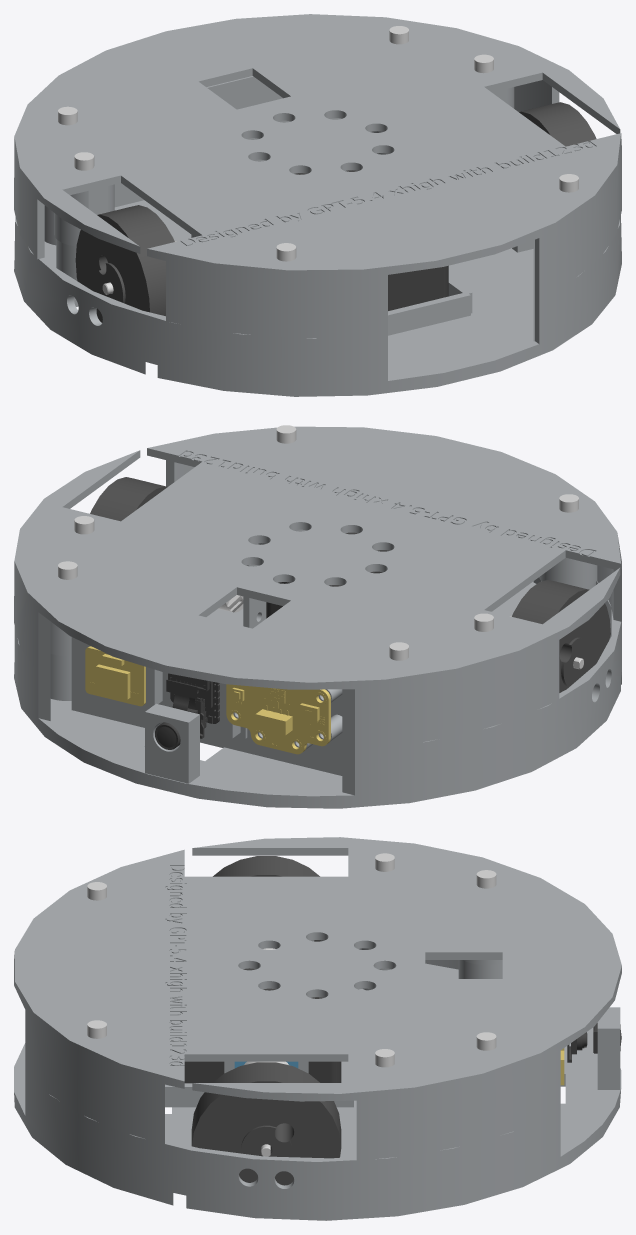
File: flat-disk-robot.glb
3 views of the same model, one above another, from view 1: azimuth 30°, elevation 25°; view 2: azimuth 150°, elevation 25°; view 3: azimuth 270°, elevation 25° (orthographic).
Visible parts, largest first — view 1: =>[0:1:1:6], =>[0:1:1:4], =>[0:1:1:357], =>[0:1:1:9], =>[0:1:1:407]; view 2: =>[0:1:1:6], =>[0:1:1:4], =>[0:1:1:357], =>[0:1:1:139], =>[0:1:1:407], =>[0:1:1:328], =>[0:1:1:136], =>[0:1:1:330], =>[0:1:1:225]; view 3: =>[0:1:1:6], =>[0:1:1:4], =>[0:1:1:407], =>[0:1:1:357], =>[0:1:1:9].
Boxes of the visible parts, x1,y1,x2,y2 form: =>[0:1:1:6]: (14, 14, 621, 338); =>[0:1:1:4]: (14, 76, 621, 396); =>[0:1:1:357]: (75, 205, 174, 322); =>[0:1:1:9]: (388, 265, 448, 310); =>[0:1:1:407]: (519, 102, 596, 146); =>[0:1:1:6]: (14, 426, 621, 749); =>[0:1:1:4]: (14, 529, 621, 808); =>[0:1:1:357]: (512, 580, 610, 692); =>[0:1:1:139]: (226, 684, 330, 754); =>[0:1:1:407]: (90, 477, 167, 521); =>[0:1:1:328]: (85, 646, 145, 706); =>[0:1:1:136]: (155, 679, 197, 749); =>[0:1:1:330]: (96, 664, 130, 699); =>[0:1:1:225]: (255, 709, 292, 735); =>[0:1:1:6]: (14, 837, 621, 1160); =>[0:1:1:4]: (14, 940, 621, 1220); =>[0:1:1:407]: (191, 1062, 341, 1185); =>[0:1:1:357]: (213, 856, 323, 941); =>[0:1:1:9]: (184, 1061, 341, 1083).
Size of the model in its own units: 0.216 by 0.0578 by 0.2155.
